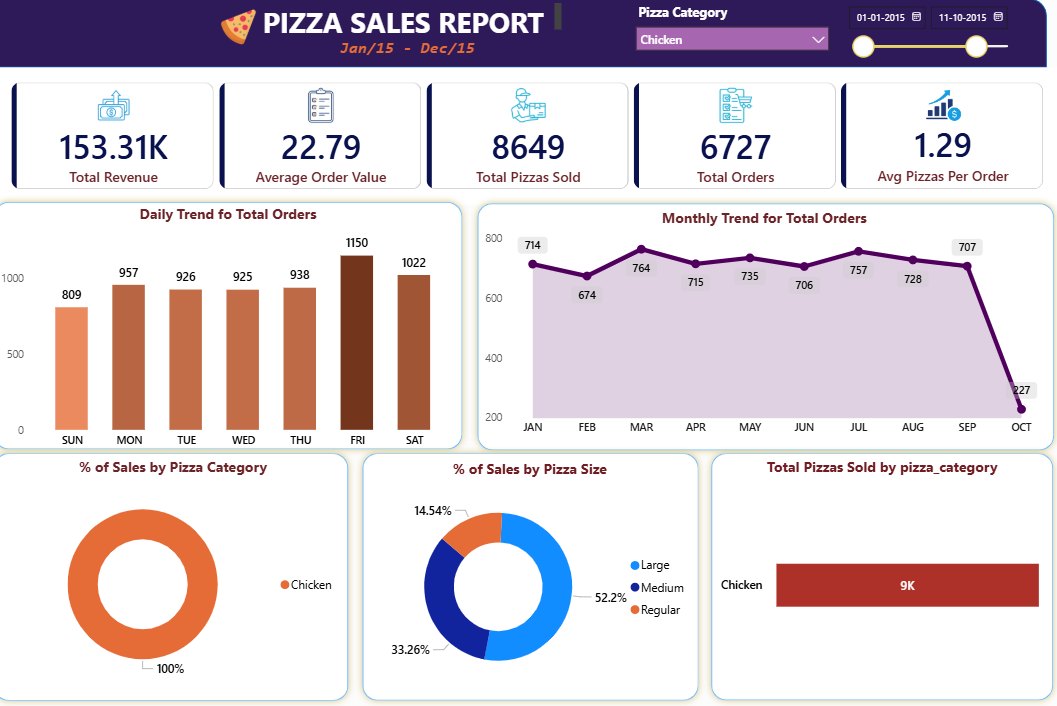

What the dashboard file says about the page in this screenshot:
{"tool":"powerbi","page":{"name":"Home","canvas":[1500,820],"ordinal":0},"visuals":[{"type":"shape","box":[0,88.6,284.3,730],"z":0},{"type":"cardVisual","fields":{"Data":["pizza_sales.Total Revenue","pizza_sales.Average Order Value","pizza_sales.Total Pizzas Sold","pizza_sales.Total Orders","pizza_sales.Avg Pizzas Per Order"]},"box":[284.4,88.9,1215.6,156.7],"z":1000},{"type":"shape","box":[8.6,10,1475.7,78.6],"z":2000},{"type":"textbox","box":[572.9,10,361.4,45.7],"z":3000},{"type":"textbox","box":[662.9,50,181.4,31.4],"z":4000},{"type":"image","box":[535.7,21.4,50,41.4],"z":5000},{"type":"shape","box":[272.9,234.3,551.4,298.6],"z":6000},{"type":"columnChart","title":"Daily Trend fo Total Orders","fields":{"Category":["pizza_sales.Order Day"],"Y":["pizza_sales.Total Orders"]},"box":[284.3,244.3,528.6,288.6],"z":7000},{"type":"shape","box":[825,235,675,298.3],"z":8000},{"type":"areaChart","title":"Monthly Trend for Total Orders","fields":{"Y":["pizza_sales.Total Orders"],"Category":["pizza_sales.Order Month"]},"box":[836.7,248.3,648.3,270],"z":9000},{"type":"shape","box":[273.3,521.1,421.1,298.9],"z":10000},{"type":"shape","box":[694.3,521.4,400,298.6],"z":11000},{"type":"shape","box":[1093.3,521.7,406.7,298.3],"z":12000},{"type":"donutChart","title":"% of Sales by Pizza Category","fields":{"Category":["pizza_sales.pizza_category"],"Y":["pizza_sales.Total Revenue"]},"box":[290,532.9,391.4,271.4],"z":13000},{"type":"donutChart","title":"% of Sales by Pizza Size","fields":{"Y":["pizza_sales.Total Revenue"],"Category":["pizza_sales.pizza_size"]},"box":[702.9,535.7,381.4,271.4],"z":14000},{"type":"funnel","fields":{"Category":["pizza_sales.pizza_category"],"Y":["pizza_sales.Total Pizzas Sold"]},"box":[1106.7,533.3,378.3,271.7],"z":15000},{"type":"textbox","box":[10,241.4,262.9,32.9],"z":16000},{"type":"textbox","box":[10,274.4,263.3,247.8],"z":17000},{"type":"textbox","box":[8.9,535.6,263.3,36.7],"z":18000},{"type":"textbox","box":[8.9,572.2,263.3,234.4],"z":19000},{"type":"slicer","fields":{"Values":["pizza_sales.pizza_category"]},"box":[1004.3,10,241.4,71.4],"z":20000},{"type":"slicer","fields":{"Values":["pizza_sales.order_date"]},"box":[1245.7,8.6,215.7,80],"z":21000},{"type":"pageNavigator","box":[17.1,117.1,254.3,50],"z":21001},{"type":"pageNavigator","box":[16.2,183.8,253.8,50],"z":21002},{"type":"image","box":[228.8,120,55,43.8],"z":21003},{"type":"image","box":[17.5,123.8,50,37.5],"z":21004},{"type":"image","box":[22.5,186.2,41.2,43.8],"z":21005}]}

Visuals, with their boxes on the page's 1500x820 design canvas (x1, y1, x2, y2). These are canvas units, not pixel positions in the 1057x706 screenshot, which may show the page scaled, cropped or inside an application window:
shape: bbox(0, 89, 284, 819)
cardVisual - pizza_sales.Total Revenue x pizza_sales.Average Order Value: bbox(284, 89, 1500, 246)
shape: bbox(9, 10, 1484, 89)
textbox: bbox(573, 10, 934, 56)
textbox: bbox(663, 50, 844, 81)
image: bbox(536, 21, 586, 63)
shape: bbox(273, 234, 824, 533)
"Daily Trend fo Total Orders" columnChart: bbox(284, 244, 813, 533)
shape: bbox(825, 235, 1500, 533)
"Monthly Trend for Total Orders" areaChart: bbox(837, 248, 1485, 518)
shape: bbox(273, 521, 694, 820)
shape: bbox(694, 521, 1094, 820)
shape: bbox(1093, 522, 1500, 820)
"% of Sales by Pizza Category" donutChart: bbox(290, 533, 681, 804)
"% of Sales by Pizza Size" donutChart: bbox(703, 536, 1084, 807)
funnel - pizza_sales.pizza_category x pizza_sales.Total Pizzas Sold: bbox(1107, 533, 1485, 805)
textbox: bbox(10, 241, 273, 274)
textbox: bbox(10, 274, 273, 522)
textbox: bbox(9, 536, 272, 572)
textbox: bbox(9, 572, 272, 807)
slicer - pizza_sales.pizza_category: bbox(1004, 10, 1246, 81)
slicer - pizza_sales.order_date: bbox(1246, 9, 1461, 89)
pageNavigator: bbox(17, 117, 271, 167)
pageNavigator: bbox(16, 184, 270, 234)
image: bbox(229, 120, 284, 164)
image: bbox(18, 124, 68, 161)
image: bbox(22, 186, 64, 230)
